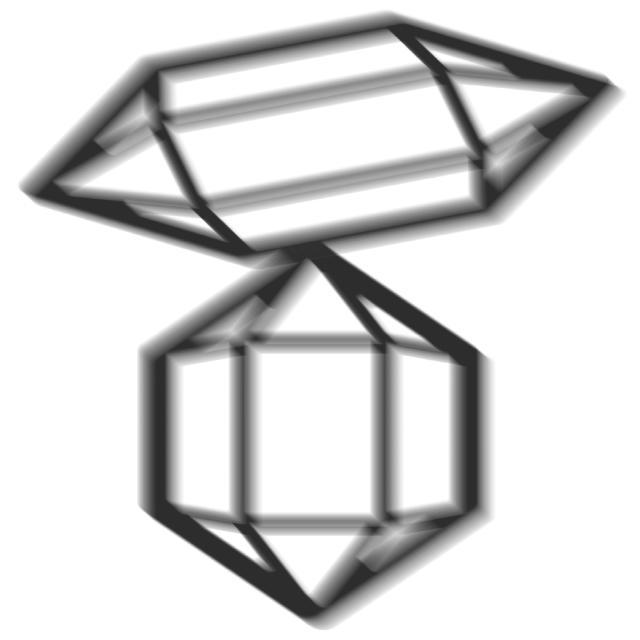crystal: (10, 3, 637, 281), (129, 228, 506, 636)
